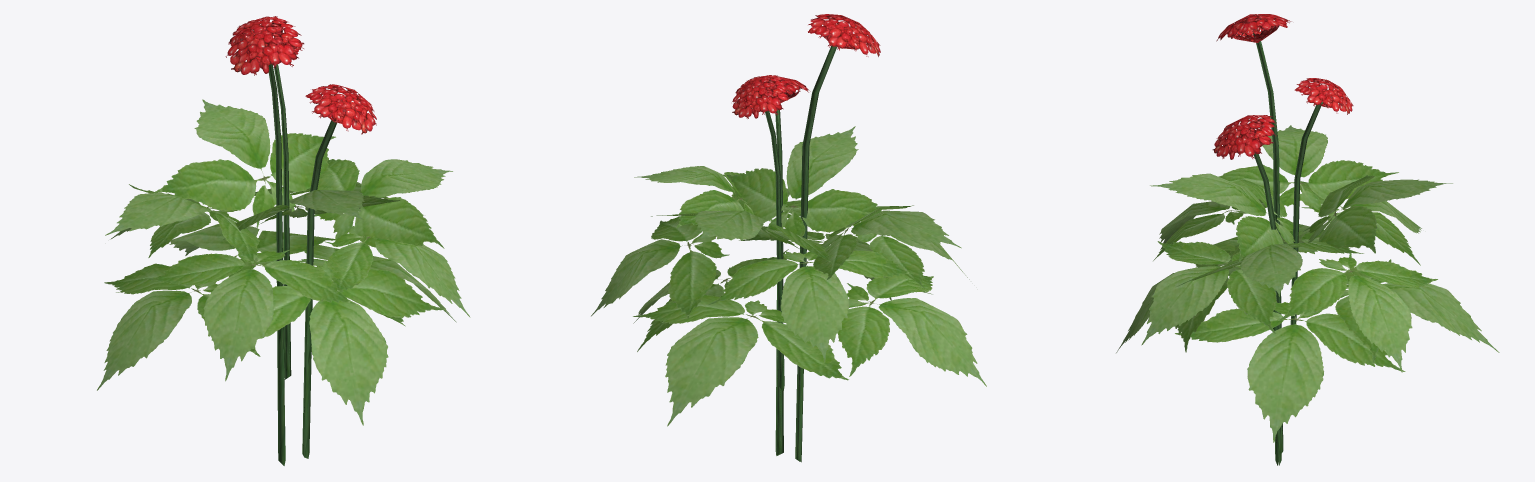
The model's file is Ginseng.obj.
3 renders of one model, left to right at view 1: azimuth 30°, elevation 25°; view 2: azimuth 150°, elevation 25°; view 3: azimuth 270°, elevation 25°, orthographic. The views are drawn at different scales.
Parts seen in each view (by area): view 1: RedGinseng; view 2: RedGinseng; view 3: RedGinseng.
Boxes of the visible parts, left/top/right/bottom form: RedGinseng: left=97, top=16, right=470, bottom=465; RedGinseng: left=591, top=14, right=986, bottom=462; RedGinseng: left=1116, top=14, right=1499, bottom=465.
Size of the model in its own units: 0.6319 by 0.6677 by 0.6326.
